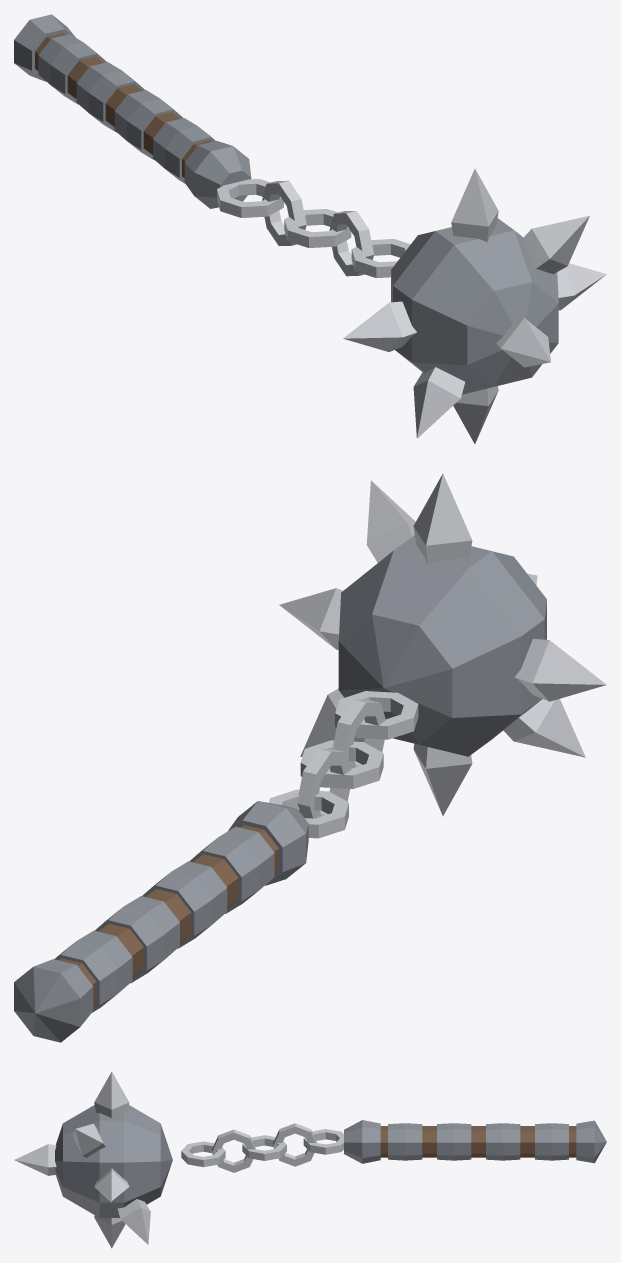
Rendered from chainfall.glb.
3 renders of one model, top to bottom at view 1: azimuth 30°, elevation 25°; view 2: azimuth 150°, elevation 25°; view 3: azimuth 270°, elevation 25°, orthographic. The views are drawn at different scales.
Parts seen in each view (by area): view 1: chainfall; view 2: chainfall; view 3: chainfall.
Part boxes in pixels (x1=…): chainfall: x1=14, y1=14, x2=606, y2=443; chainfall: x1=14, y1=474, x2=606, y2=1042; chainfall: x1=14, y1=1071, x2=606, y2=1248.
Bounding box in the file's own units: 0.32 × 0.32 × 0.97.
